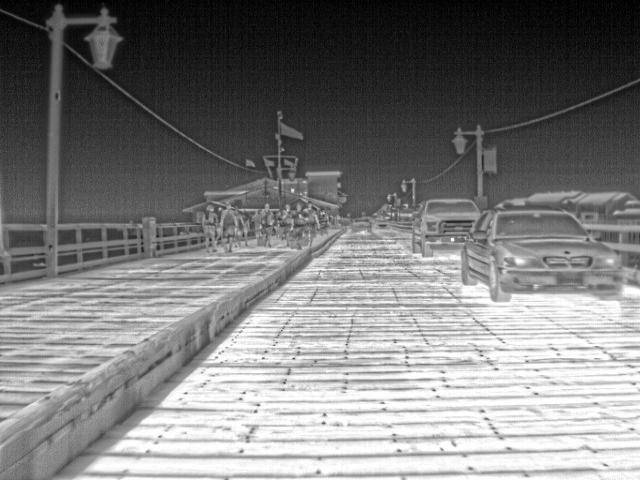car: (461, 206, 624, 299), (409, 196, 484, 258), (349, 214, 372, 232), (372, 212, 392, 229)
person: (217, 202, 241, 250), (303, 202, 324, 248), (201, 204, 220, 252), (290, 202, 308, 248), (259, 202, 276, 248), (278, 202, 294, 232)
